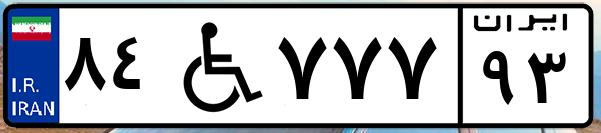3: (525, 38, 570, 115)
4: (110, 28, 158, 98)
7: (270, 28, 330, 110), (385, 28, 445, 110), (330, 28, 385, 110)
8: (57, 26, 110, 100)
9: (475, 38, 525, 113)
ژ (معلولین و جانبازان): (158, 12, 270, 120)
